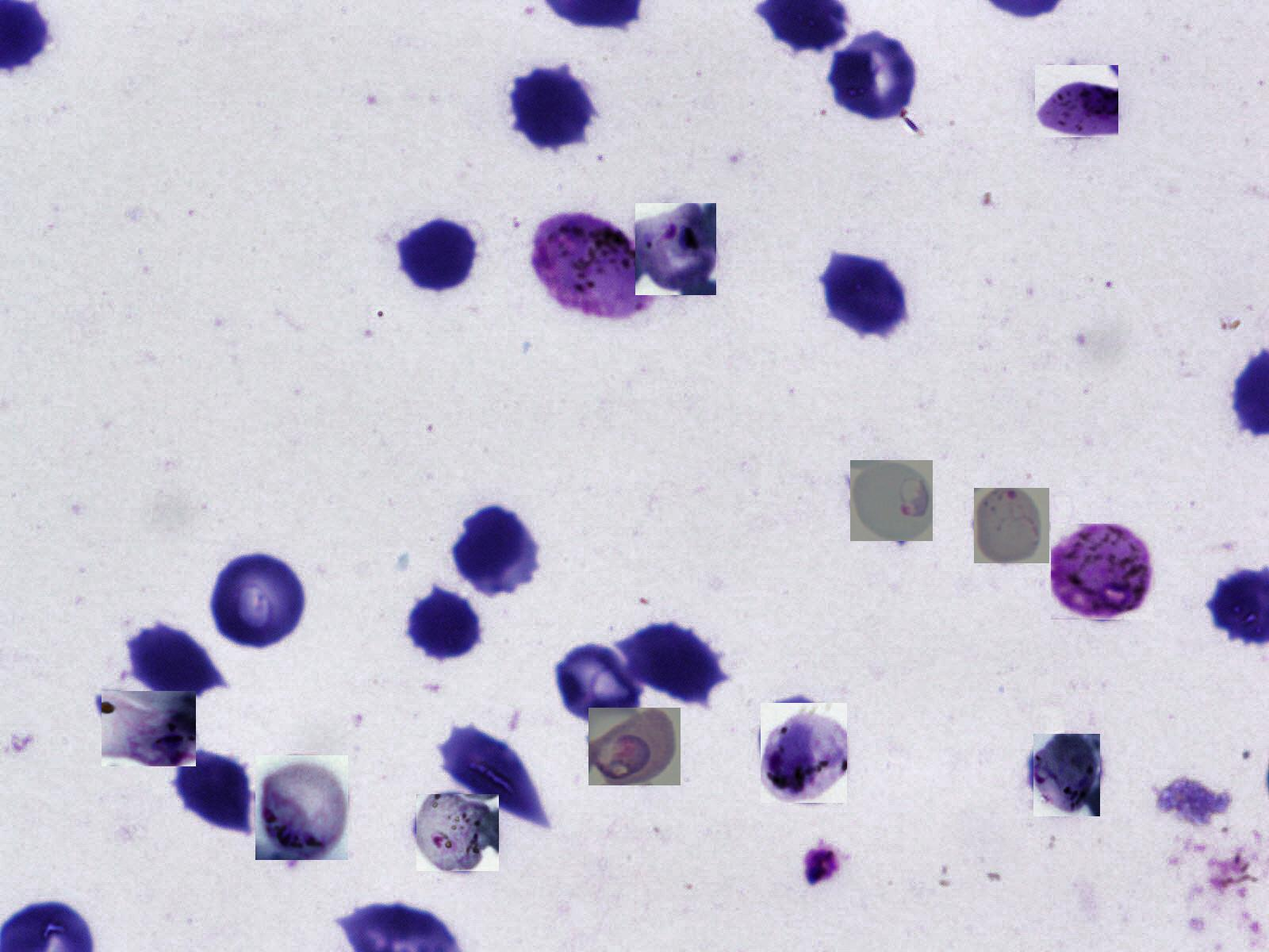Infected: (535, 213, 651, 317), (1051, 524, 1153, 620), (255, 755, 348, 860), (761, 703, 847, 803), (635, 203, 716, 295), (588, 708, 681, 785), (102, 691, 196, 766), (850, 461, 933, 542), (416, 794, 499, 871), (1035, 65, 1118, 137), (974, 488, 1049, 563), (1033, 734, 1100, 816)
Uninfected: (440, 727, 549, 827), (210, 555, 305, 647), (825, 30, 918, 117), (128, 624, 224, 704), (627, 625, 720, 707), (454, 508, 541, 593), (821, 253, 908, 337), (511, 67, 596, 150), (557, 642, 646, 720), (396, 216, 481, 294), (179, 749, 249, 829), (406, 597, 476, 659)
